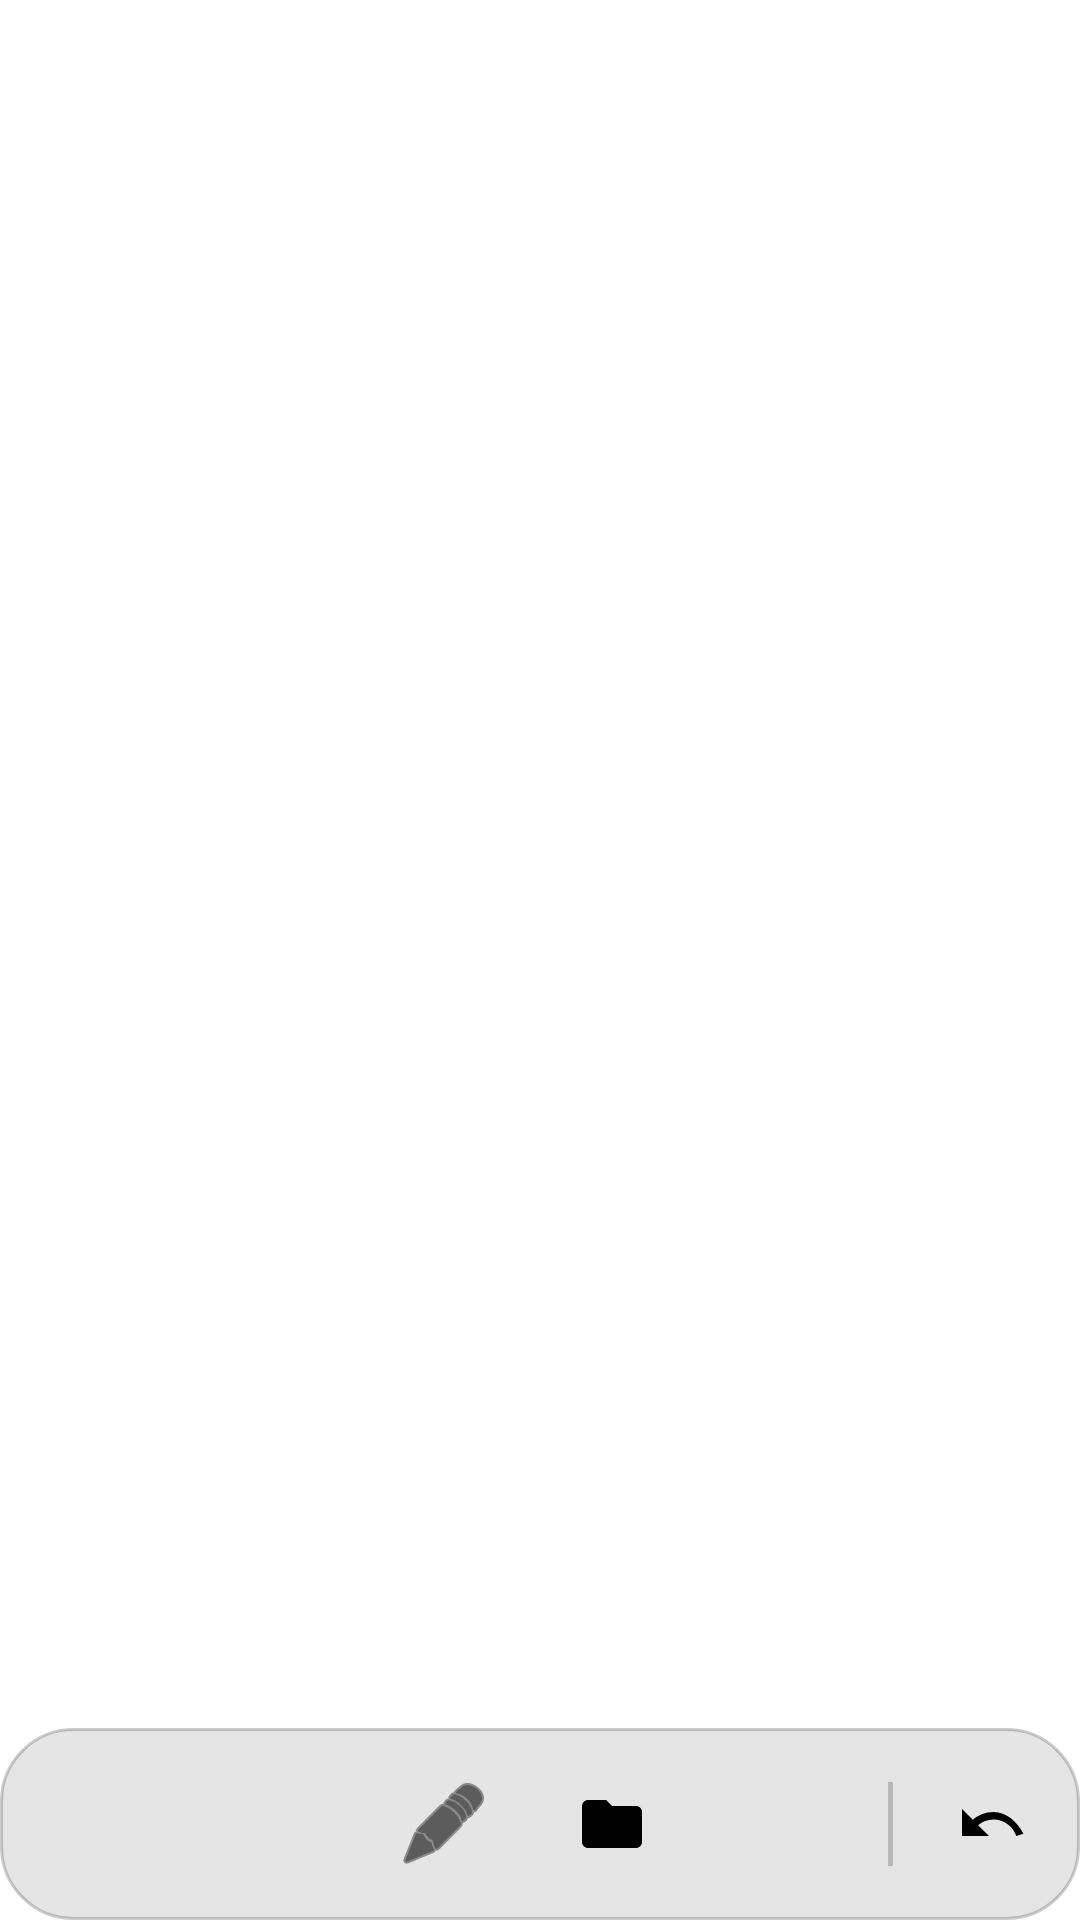

Screen size 1080 x 1920. Icon name, then its center in pixels as (x,y):
edit: (443,1823)
folder: (612,1824)
undo: (993,1822)
